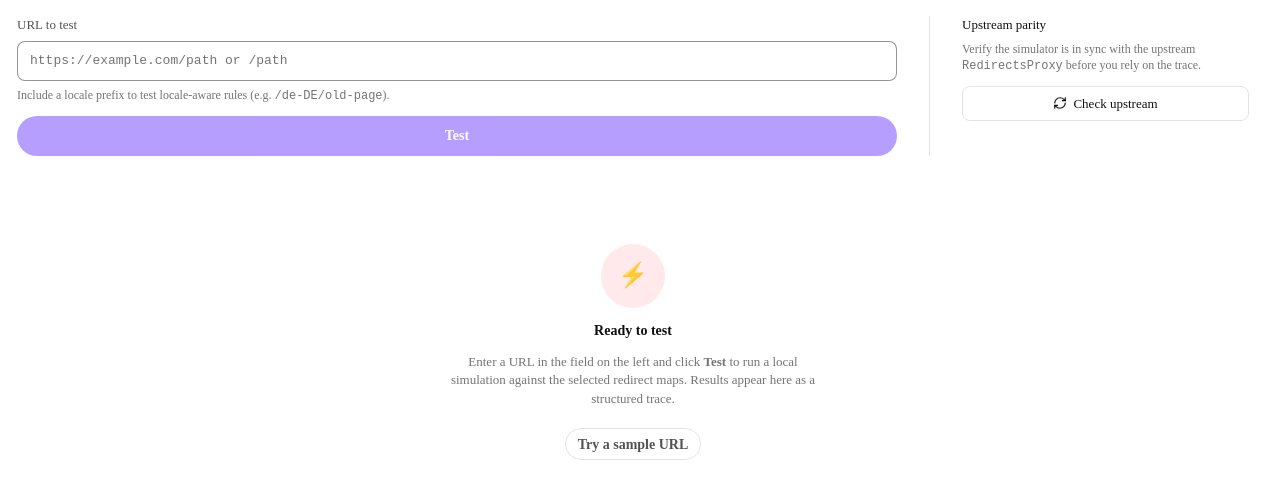
Test: TestSurface — Test button enabled state (T036) › Test button is enabled when valid URL is entered
Type "/test-path" into the field labelled "URL to test" at (457,61), box [17,41,897,81]
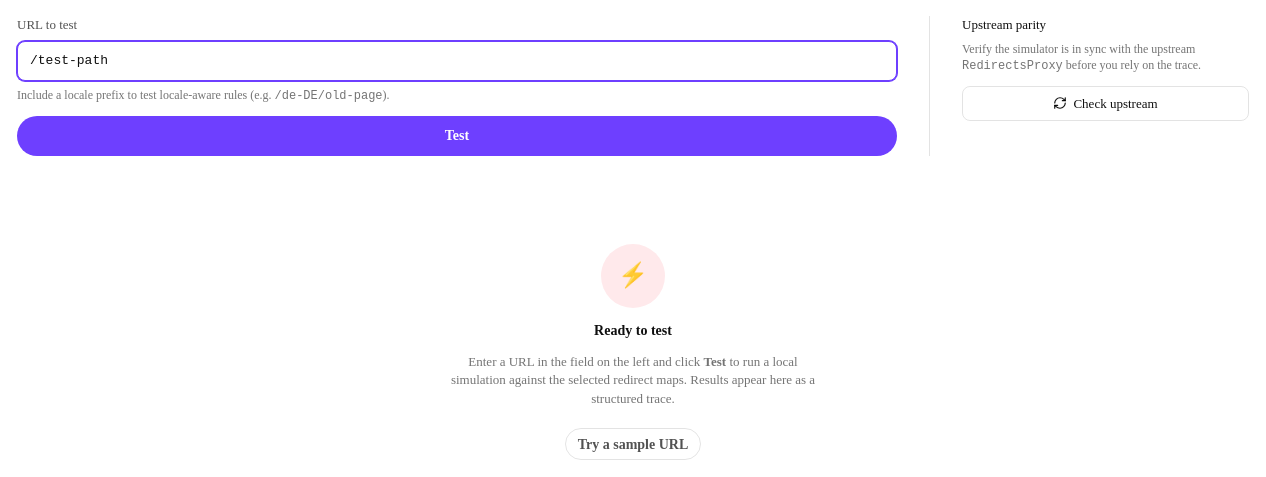
Expected: the button "Test" is enabled, [17,116,897,156]
